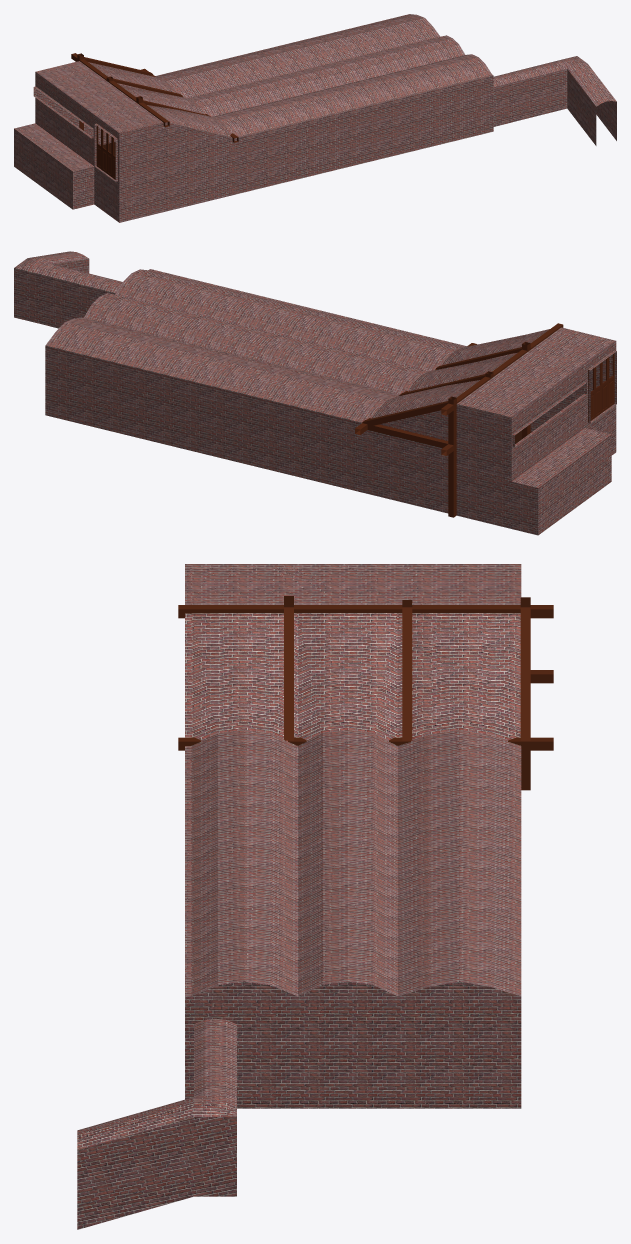
File: BookshopTest.glb
The picture shows the model from 3 angles, top to bottom: view 1: azimuth 30°, elevation 25°; view 2: azimuth 150°, elevation 25°; view 3: azimuth 270°, elevation 25°; orthographic projection. The views are drawn at different scales.
Parts seen in each view (by area): view 1: Ground_Walls, Ground_Walls_Front, Wood Beam.001, Door.001, Door, Wood Beam.012; view 2: Ground_Walls, Ground_Walls_Front, Wood Beam.004, Wood Beam.001, Wood Beam.010, Wood Beam.012, Door, Door.001, Wood Beam.013; view 3: Ground_Walls, Ground_Walls_Front, Wood Beam.001, Wood Beam.011, Wood Beam.012, Wood Beam.013, Wood Beam.
Boxes of the visible parts, box(x1,y1,x2,y2) form: Ground_Walls: box(155, 14, 616, 194); Ground_Walls_Front: box(14, 61, 235, 222); Wood Beam.001: box(71, 53, 169, 127); Door.001: box(96, 125, 106, 173); Door: box(107, 133, 117, 179); Wood Beam.012: box(84, 57, 152, 75); Ground_Walls: box(14, 251, 466, 493); Ground_Walls_Front: box(367, 327, 616, 535); Wood Beam.004: box(448, 396, 456, 517); Wood Beam.001: box(441, 323, 563, 415); Wood Beam.010: box(367, 424, 448, 448); Wood Beam.012: box(362, 401, 449, 426); Door: box(601, 353, 614, 412); Door.001: box(588, 362, 601, 422); Wood Beam.013: box(436, 347, 523, 369); Ground_Walls: box(77, 729, 521, 1229); Ground_Walls_Front: box(185, 564, 521, 740); Wood Beam.001: box(178, 605, 553, 618); Wood Beam.011: box(402, 607, 412, 740); Wood Beam.012: box(520, 607, 530, 740); Wood Beam.013: box(284, 607, 293, 740); Wood Beam: box(178, 737, 553, 750).
Bounding box in the file's own units: 22.98 × 4.86 × 9.63.
3 materials, 1 textured.
